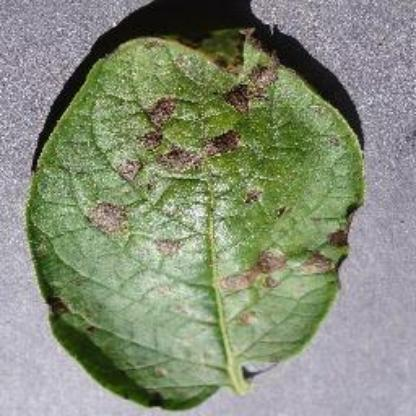Early-Blight: (24, 17, 374, 410)
